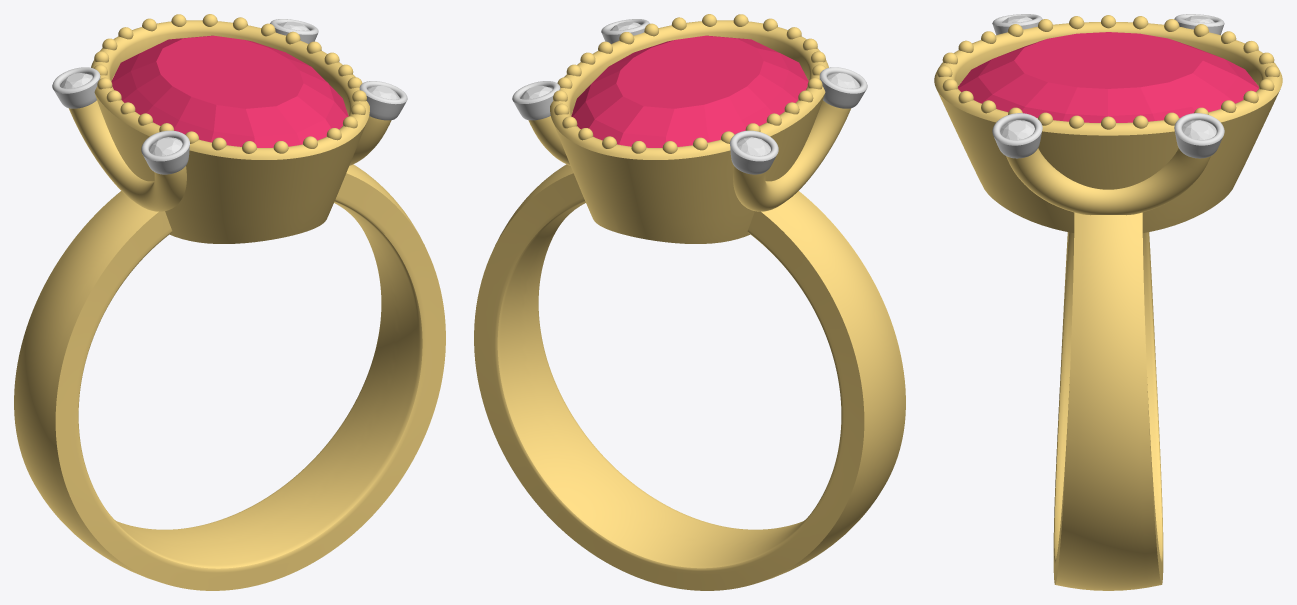
File: CarolynYGruby_blender.glb
The picture shows the model from 3 angles, left to right: view 1: azimuth 30°, elevation 25°; view 2: azimuth 150°, elevation 25°; view 3: azimuth 270°, elevation 25°; orthographic projection.
Visible parts, largest first — view 1: Carolyn YG for 3d model, Carolyn ruby for 3d model, Carolyn PT for 3d model; view 2: Carolyn YG for 3d model, Carolyn ruby for 3d model, Carolyn PT for 3d model; view 3: Carolyn YG for 3d model, Carolyn ruby for 3d model, Carolyn PT for 3d model, Carolyn dia for 3d model, Carolyn dia for 3d model.002.
Boxes of the visible parts, x1=… form: Carolyn YG for 3d model: x1=14, y1=14, x2=445, y2=590; Carolyn ruby for 3d model: x1=111, y1=35, x2=348, y2=147; Carolyn PT for 3d model: x1=52, y1=19, x2=407, y2=174; Carolyn YG for 3d model: x1=474, y1=14, x2=905, y2=590; Carolyn ruby for 3d model: x1=571, y1=35, x2=808, y2=147; Carolyn PT for 3d model: x1=512, y1=19, x2=867, y2=174; Carolyn YG for 3d model: x1=934, y1=15, x2=1282, y2=590; Carolyn ruby for 3d model: x1=958, y1=32, x2=1258, y2=122; Carolyn PT for 3d model: x1=992, y1=14, x2=1224, y2=158; Carolyn dia for 3d model: x1=1182, y1=120, x2=1216, y2=139; Carolyn dia for 3d model.002: x1=1000, y1=120, x2=1034, y2=139.
Bounding box in the file's own units: 21.56 × 25.58 × 15.9.
